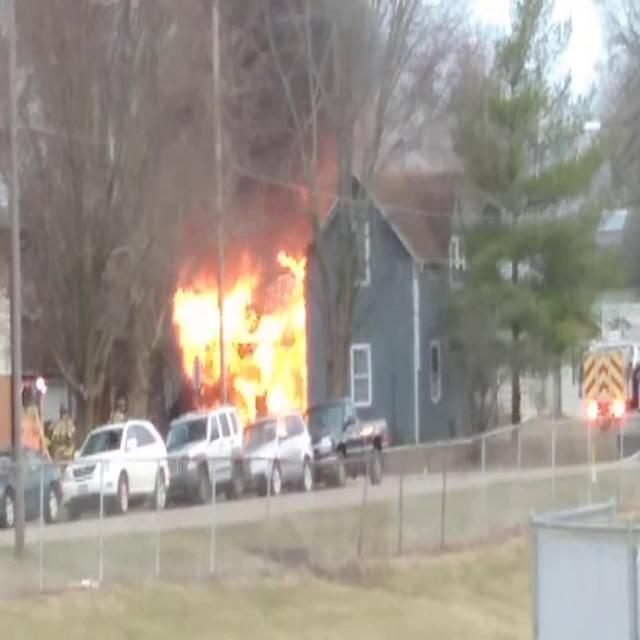Fire: (168, 248, 316, 419)
